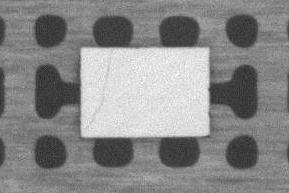DIE_CRACK: (84, 49, 113, 129)
